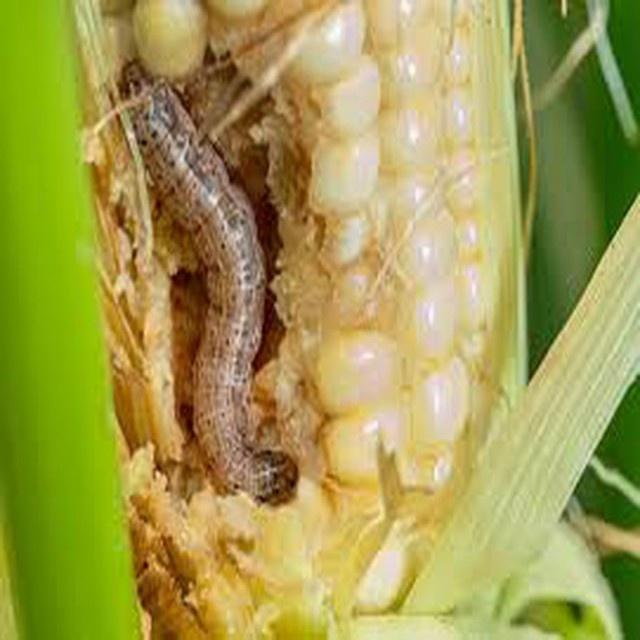Plaga: (114, 58, 303, 513)
